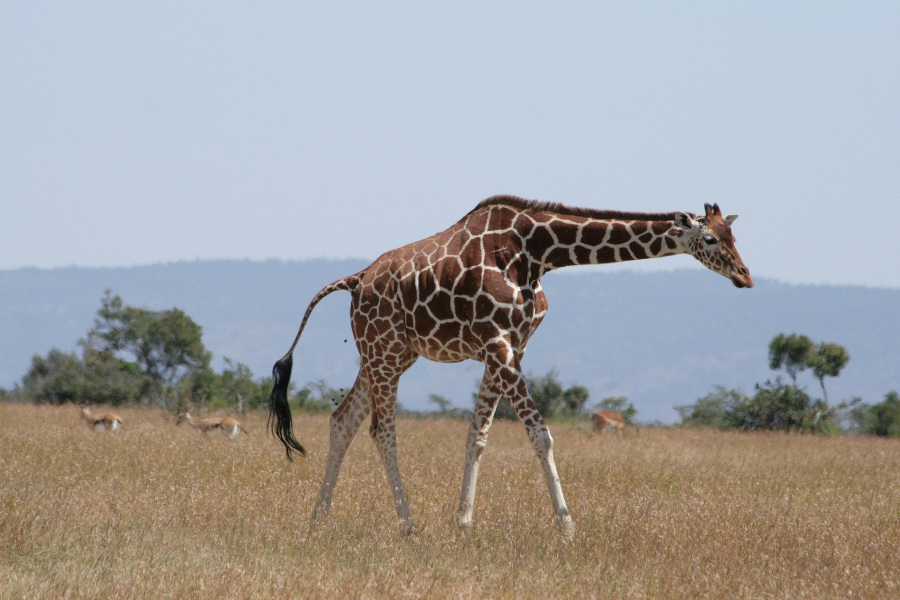giraffe: (280, 188, 759, 543)
